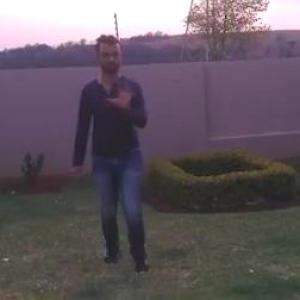follow_hand: (104, 74, 138, 111)
